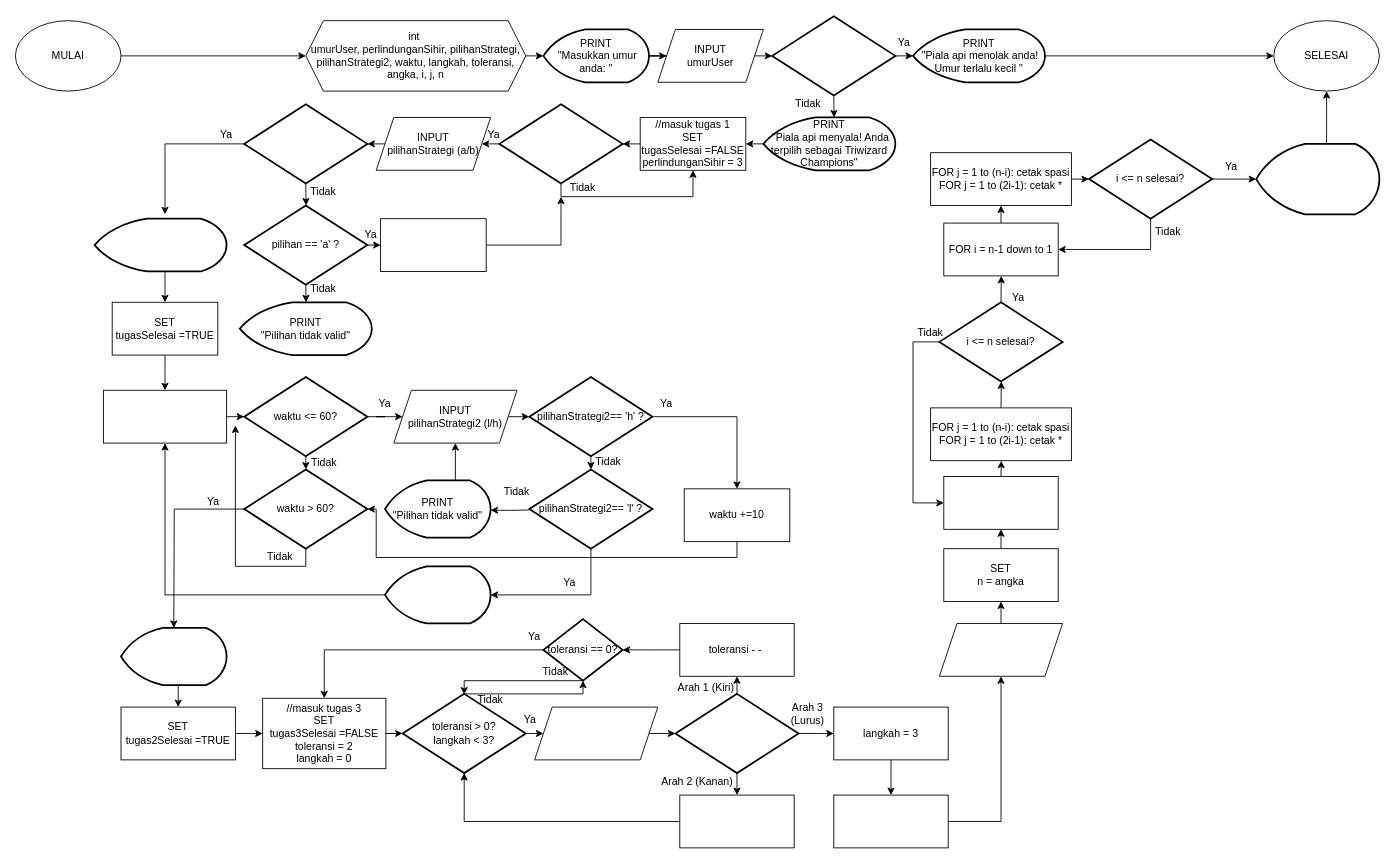
Some shapes in this 1396 by 863 pixel diagram are drawn without their labels. Each missing label, with the centre of its shape:
//masuk tugas 2 SET tugas2Selesai =FALSE waktu = 10: the point at 165,416
Arah pilihan?: the point at 736,733
FOR i = 1 to n: the point at 1000,502
INPUT angka (minimal 5): the point at 1001,649
INPUT pilihanArah (1/2/3): the point at 596,733
langkah ++: the point at 736,821
perlindunganSihir >0?: the point at 560,143
perlindunganSihir--: the point at 433,244
pilihan == 'b' ?: the point at 305,143
PRINT "Berhasil! Anda mengambil Telur Emas": the point at 160,244
PRINT "SELAMAT! ANDA ADALAH PEMENANG TURNAMEN TRIWIZARD!": the point at 1317,179
PRINT "Tepat 60 menit! Anda menyelamatkan sandera": the point at 173,656
PRINT "Waktu/oksigen habis": the point at 437,594
SET tugas3Selesai =TRUE: the point at 890,821
umurUser<17?: the point at 833,55
